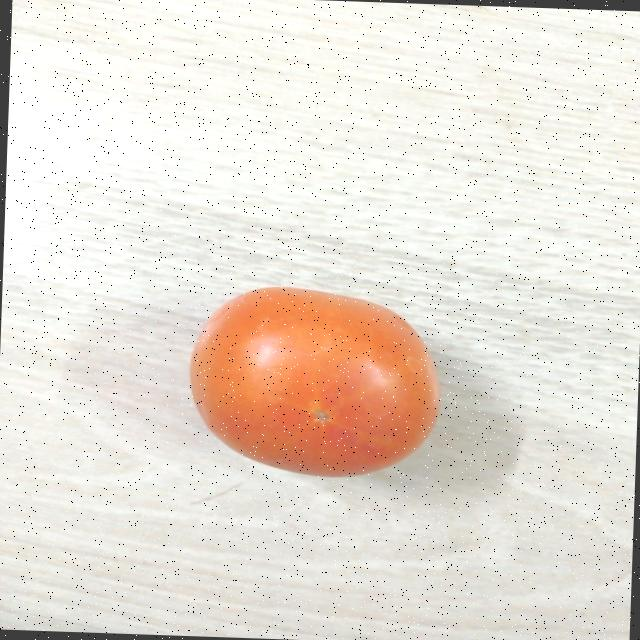Tomato: (180, 278, 448, 483)
